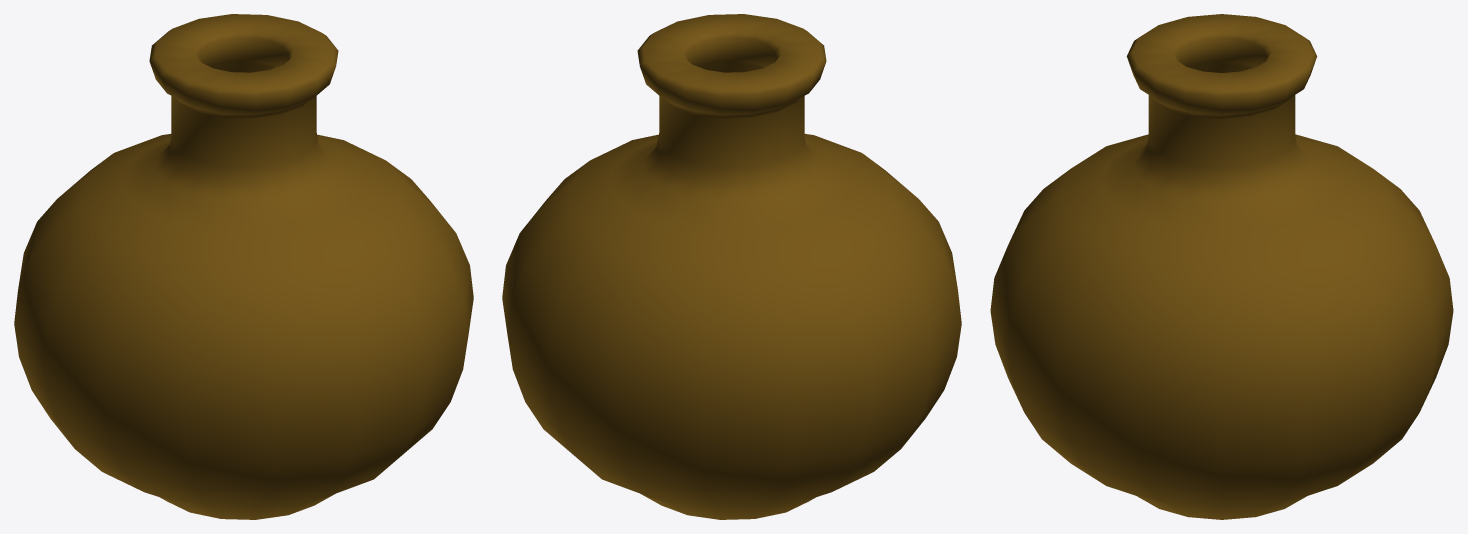
Rendered from vase.glb.
3 renders of one model, left to right at view 1: azimuth 30°, elevation 25°; view 2: azimuth 150°, elevation 25°; view 3: azimuth 270°, elevation 25°, orthographic.
Visible parts, largest first — view 1: Vase; view 2: Vase; view 3: Vase.
Part boxes in pixels (x1,y1,x2,y2): Vase: (14, 14, 473, 519); Vase: (502, 14, 961, 519); Vase: (990, 14, 1453, 519).
Bounding box in the file's own units: 1 × 1.03 × 1.
